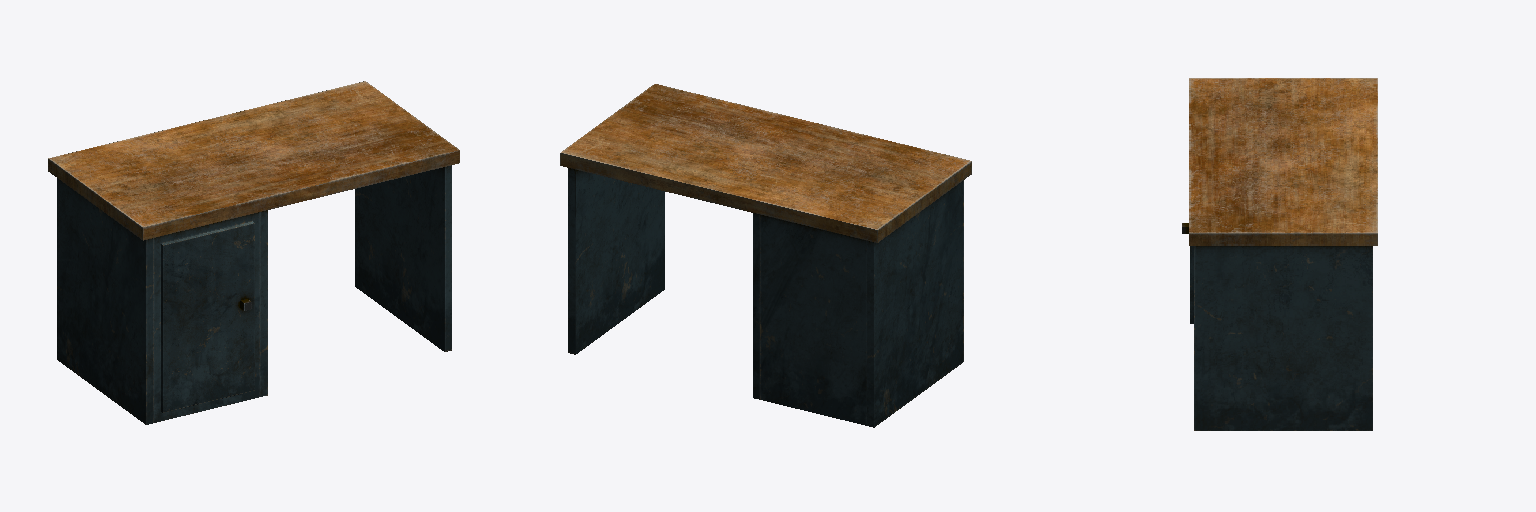
3 renders of one model, left to right at view 1: azimuth 30°, elevation 25°; view 2: azimuth 150°, elevation 25°; view 3: azimuth 270°, elevation 25°, orthographic.
Parts seen in each view (by area): view 1: uploads-files-[number redacted]-Desk; view 2: uploads-files-[number redacted]-Desk; view 3: uploads-files-[number redacted]-Desk.
Boxes of the visible parts, box(x1,y1,x2,y2) form: uploads-files-[number redacted]-Desk: box(48, 81, 459, 424); uploads-files-[number redacted]-Desk: box(560, 84, 971, 427); uploads-files-[number redacted]-Desk: box(1182, 78, 1377, 430).
Size of the model in its own units: 8.04 by 4.86 by 4.31.
Materials: 1 (1 with a texture image).